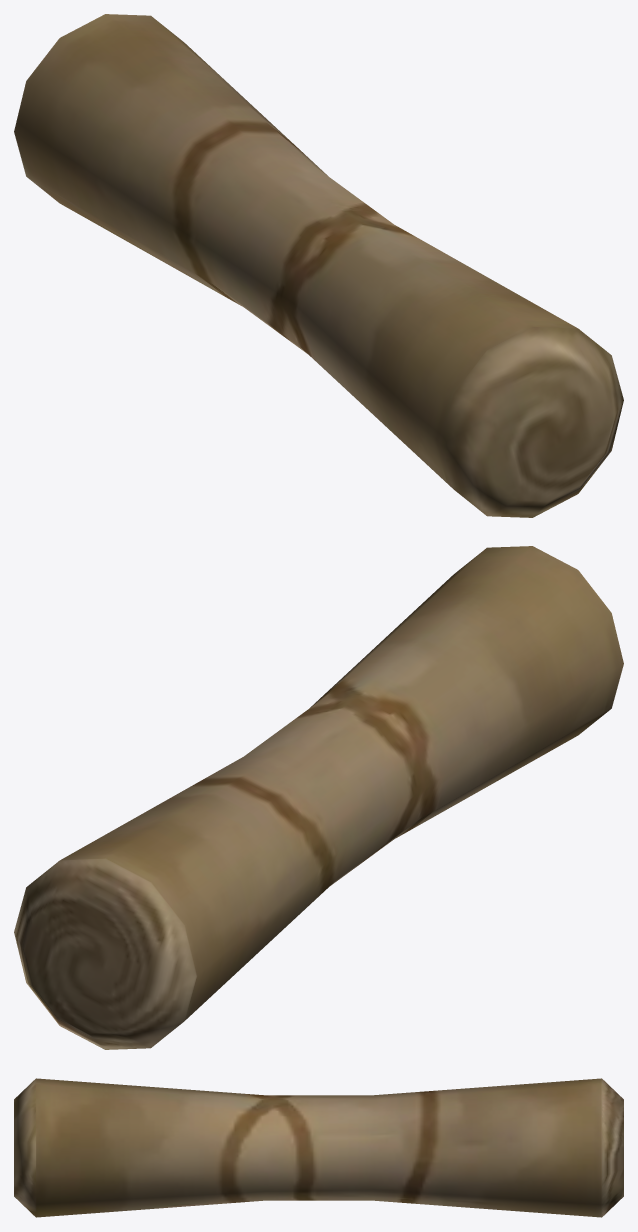
3 renders of one model, top to bottom at view 1: azimuth 30°, elevation 25°; view 2: azimuth 150°, elevation 25°; view 3: azimuth 270°, elevation 25°, orthographic. The views are drawn at different scales.
Visible parts, largest first — view 1: SM_DR_Scroll_03_LOD0; view 2: SM_DR_Scroll_03_LOD0; view 3: SM_DR_Scroll_03_LOD0.
Boxes of the visible parts, x1,y1,x2,y2 form: SM_DR_Scroll_03_LOD0: (14, 14, 623, 517); SM_DR_Scroll_03_LOD0: (14, 546, 623, 1049); SM_DR_Scroll_03_LOD0: (14, 1078, 623, 1217).
Bounding box in the file's own units: 0.1079 × 0.1079 × 0.4712.
Materials: 1 (1 with a texture image).
